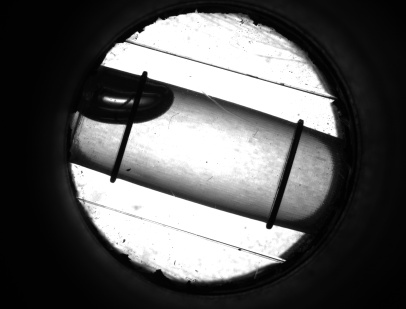line: (266, 138, 303, 209), (111, 128, 134, 162)
